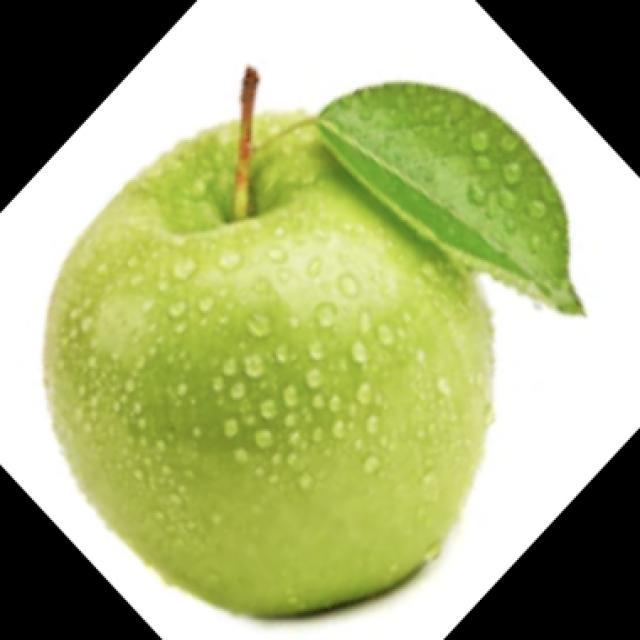Fresh Apple: (66, 101, 485, 640)
